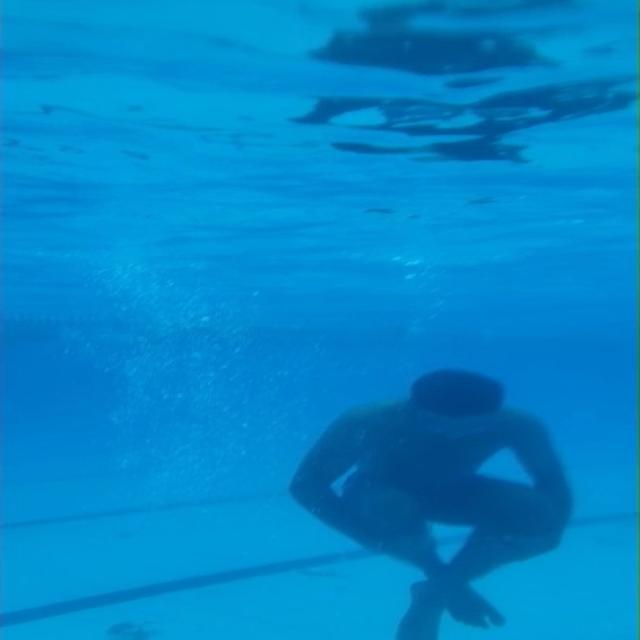Drowning: (287, 370, 574, 640)
